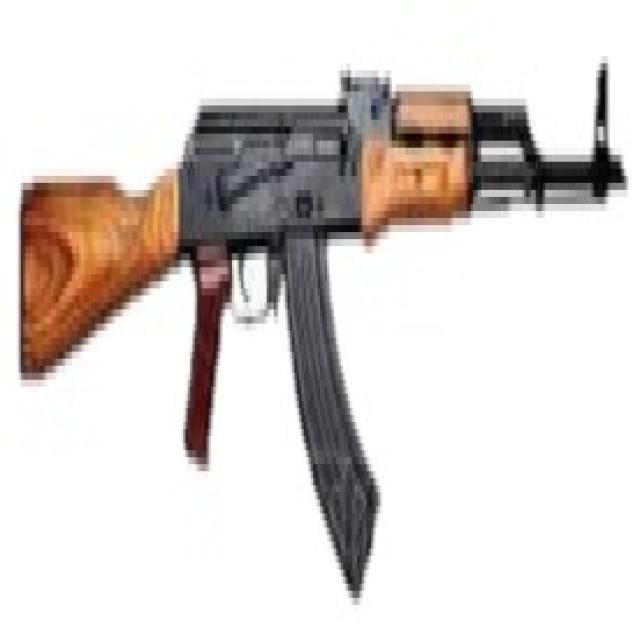rifle: (11, 41, 632, 624)
